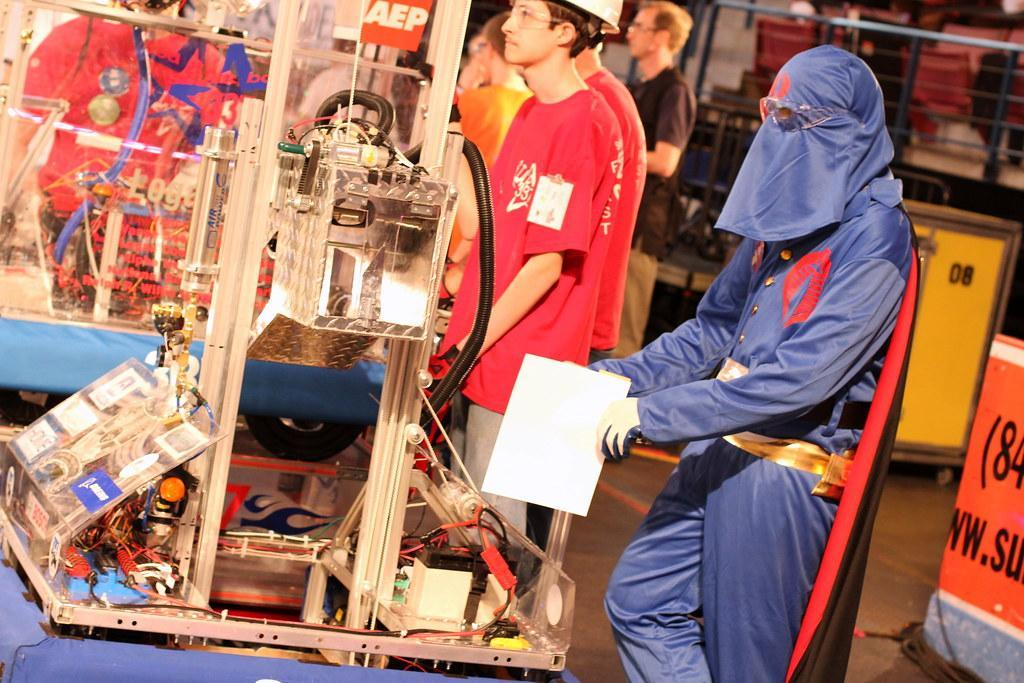robot: (0, 0, 609, 683), (0, 0, 410, 466)
